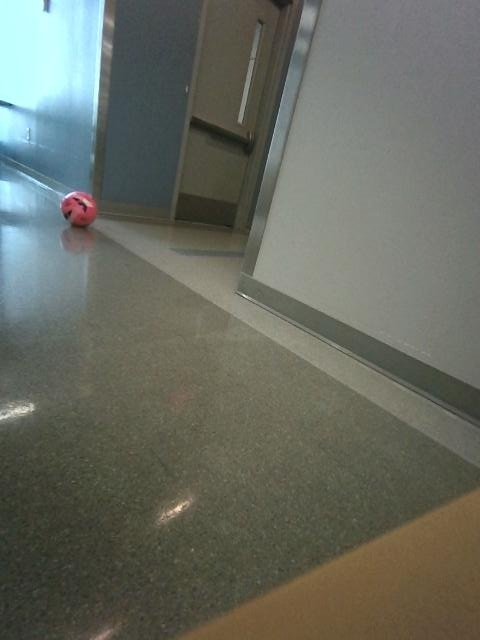ball: (61, 191, 96, 225)
